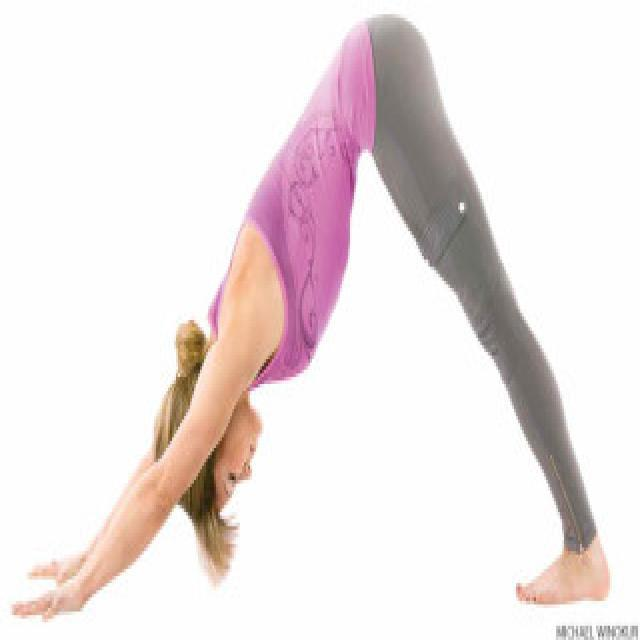yoga-pose downward: (22, 12, 610, 610)
